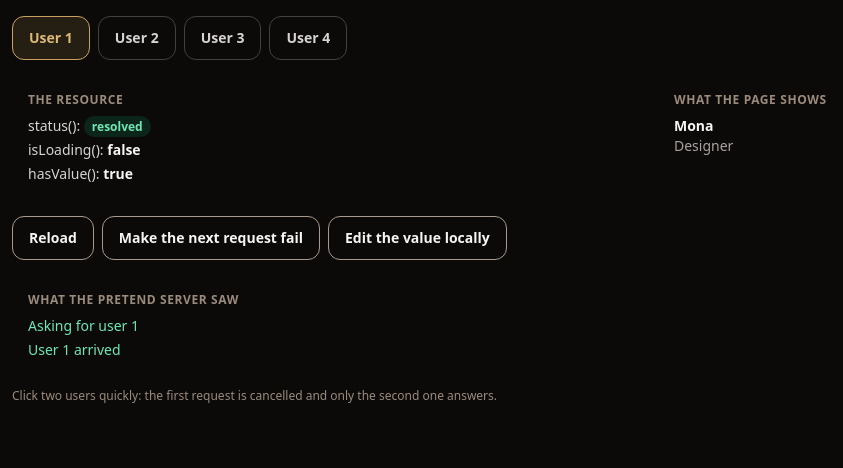
ResourceDemoComponent › does not report a cancellation for a request that had already finished
The width and height of the screenshot is (843, 468).
Click the button "User 2".
click(137, 38)  # box [98, 16, 176, 60]
Wait 900 ms
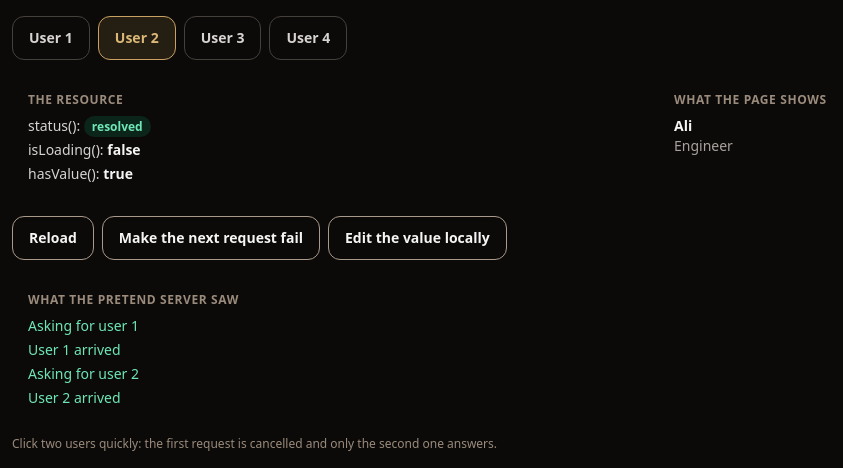
Expected: the list item "User 1 arrived" is shown, [28, 340, 121, 359]
Expected: the text "Ali" is shown, [674, 116, 692, 135]
